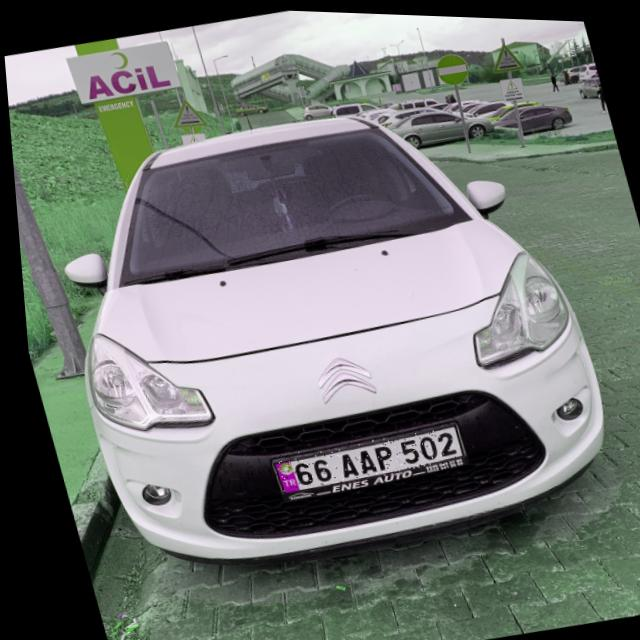license_plate: (261, 418, 462, 497)
